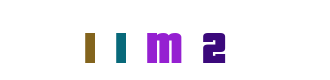1: (124, 0, 204, 80)
2: (141, 0, 221, 80)
I: (50, 0, 130, 80)
M: (125, 0, 205, 80)
